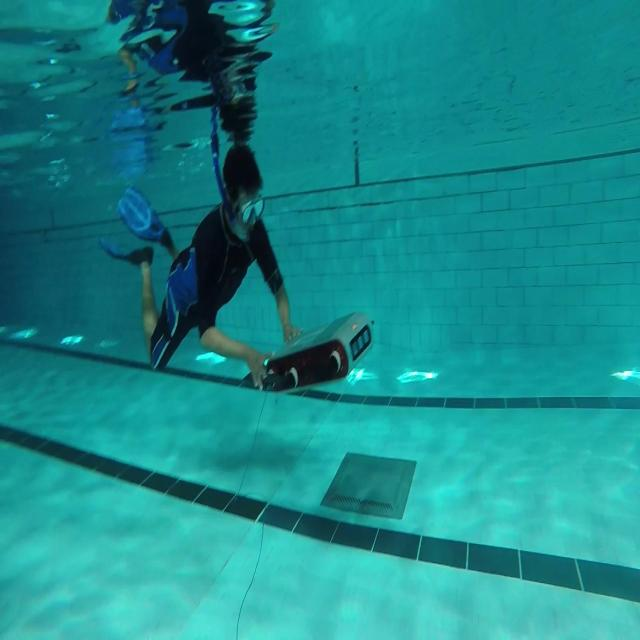human: (97, 141, 302, 391)
